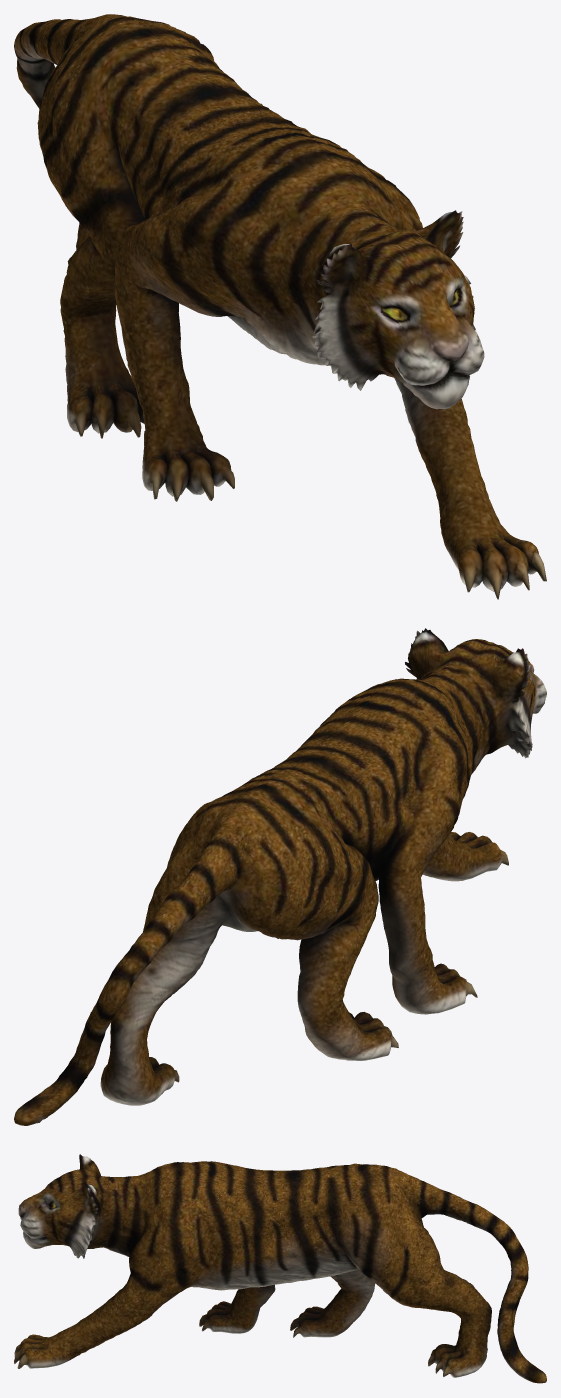
File: MZ4250 - Tiger.glb
The picture shows the model from 3 angles, top to bottom: view 1: azimuth 30°, elevation 25°; view 2: azimuth 150°, elevation 25°; view 3: azimuth 270°, elevation 25°; orthographic projection. The views are drawn at different scales.
Visible parts, largest first — view 1: Tiger.001; view 2: Tiger.001; view 3: Tiger.001.
Boxes of the visible parts, x1=… form: Tiger.001: x1=14, y1=14, x2=546, y2=599; Tiger.001: x1=14, y1=628, x2=546, y2=1125; Tiger.001: x1=14, y1=1154, x2=546, y2=1383.
Size of the model in its own units: 0.3772 by 0.4532 by 1.18.
Materials: 1 (1 with a texture image).
